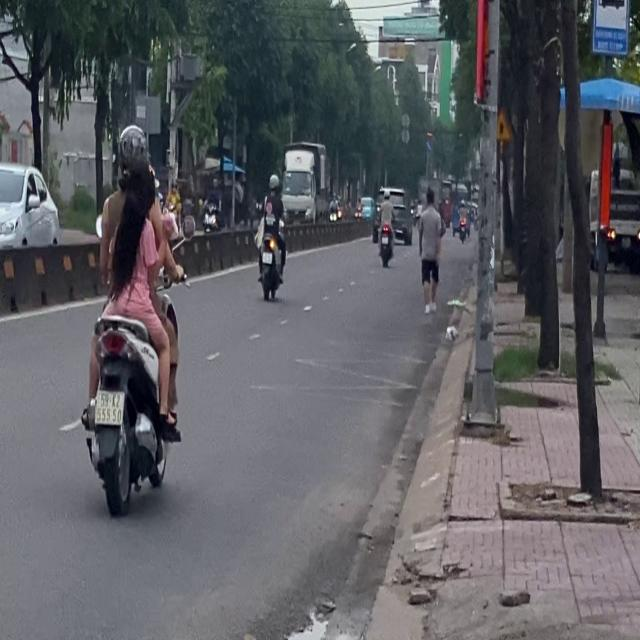helmet: (116, 122, 148, 178)
licenseplate: (78, 120, 184, 514)
motorcyclist: (126, 160, 155, 208)
nohelmet: (95, 391, 123, 424)
